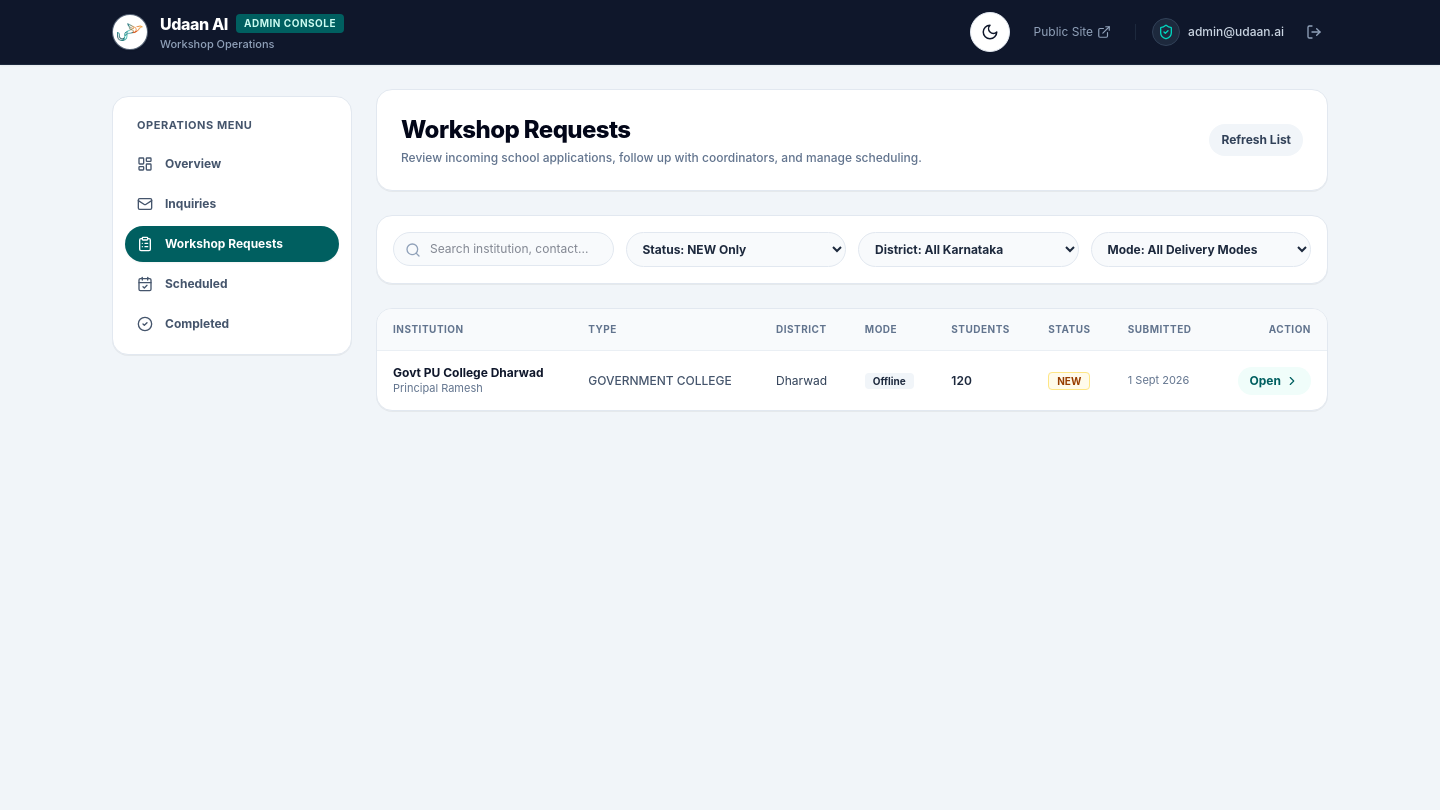
Test case: AdminRequestsPage › Scheduling failure → retry → success under a status filter › shows normalized error inside dialog, preserves inputs, and reconciles list upon success
This screenshot has width=1440, height=810.
Check: the text "Govt PU College Dharwad" is shown, box [393,365,556,381]
Click the button "Open". click: {"x": 1274, "y": 381}
box: [1238,367,1311,395]
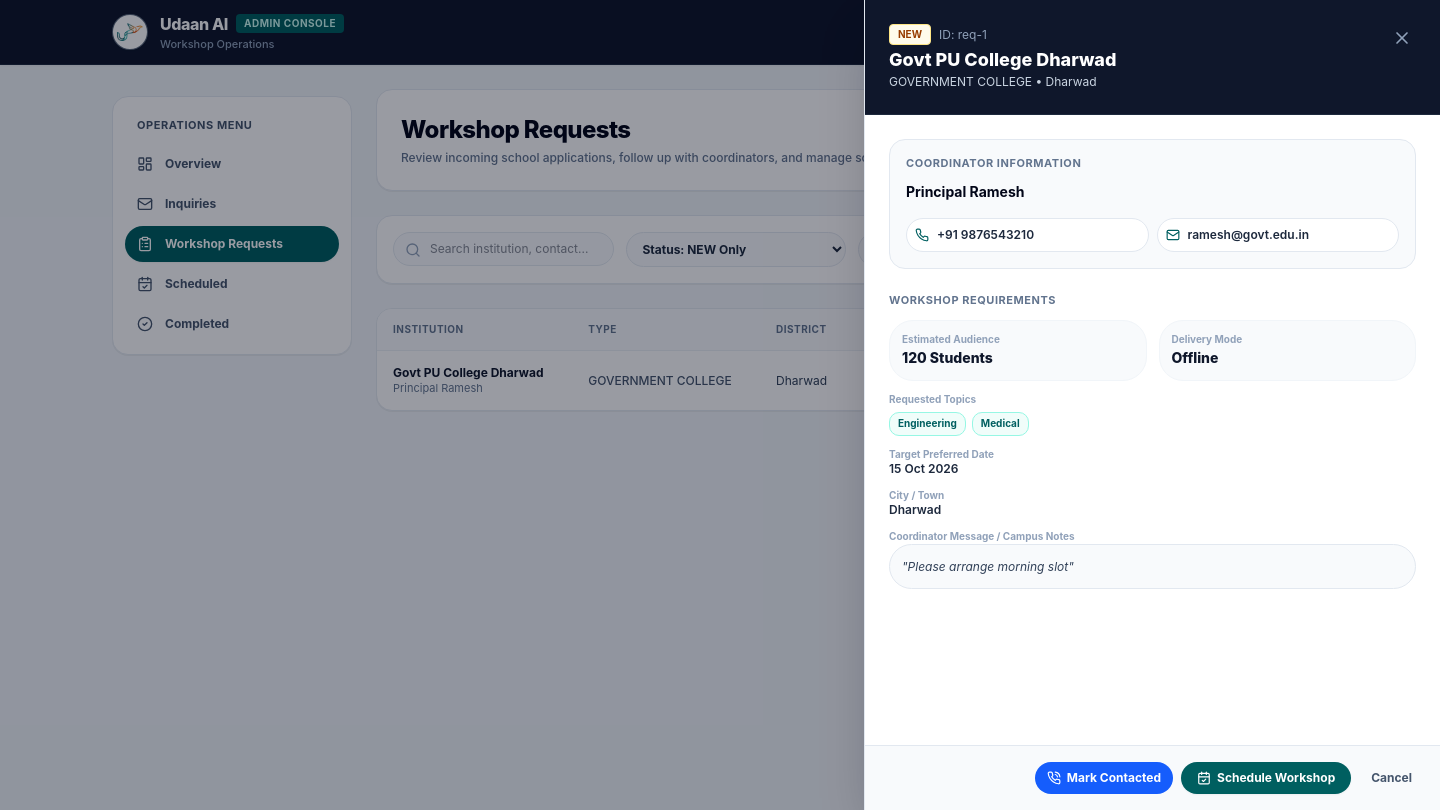
Check: the text "Coordinator Information" is shown, box [906,156,1081,170]
Note: Open Schedule Workshop dialog
Click the button "Schedule Workshop". click: {"x": 1266, "y": 778}
box: [1181,762,1351,794]
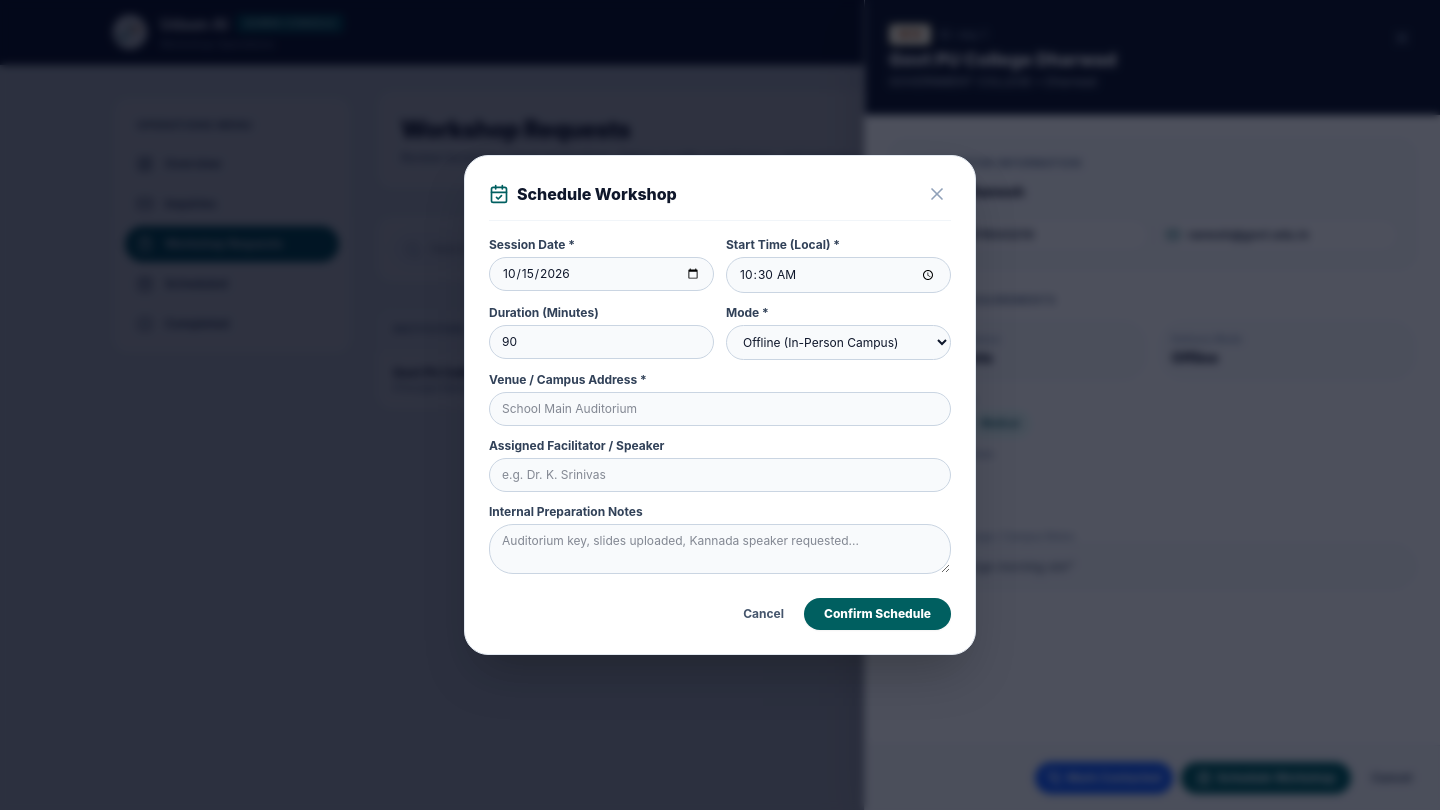
Check: the heading "Schedule Workshop" is shown, box [517,182,677,206]
Note: Fill in scheduling form details
Type "College Main Hall" into the field with placeholder "School Main Auditorium". click: {"x": 720, "y": 409}
box: [489,392,951,426]
Type "Dr. K. Srinivas" into the field with placeholder "e.g. Dr. K. Srinivas". click: {"x": 720, "y": 475}
box: [489,458,951,492]
Replace the text in the text box with placeholder "Auditorium key" with "Kannada speaker requested". click: {"x": 720, "y": 549}
box: [489,524,951,574]
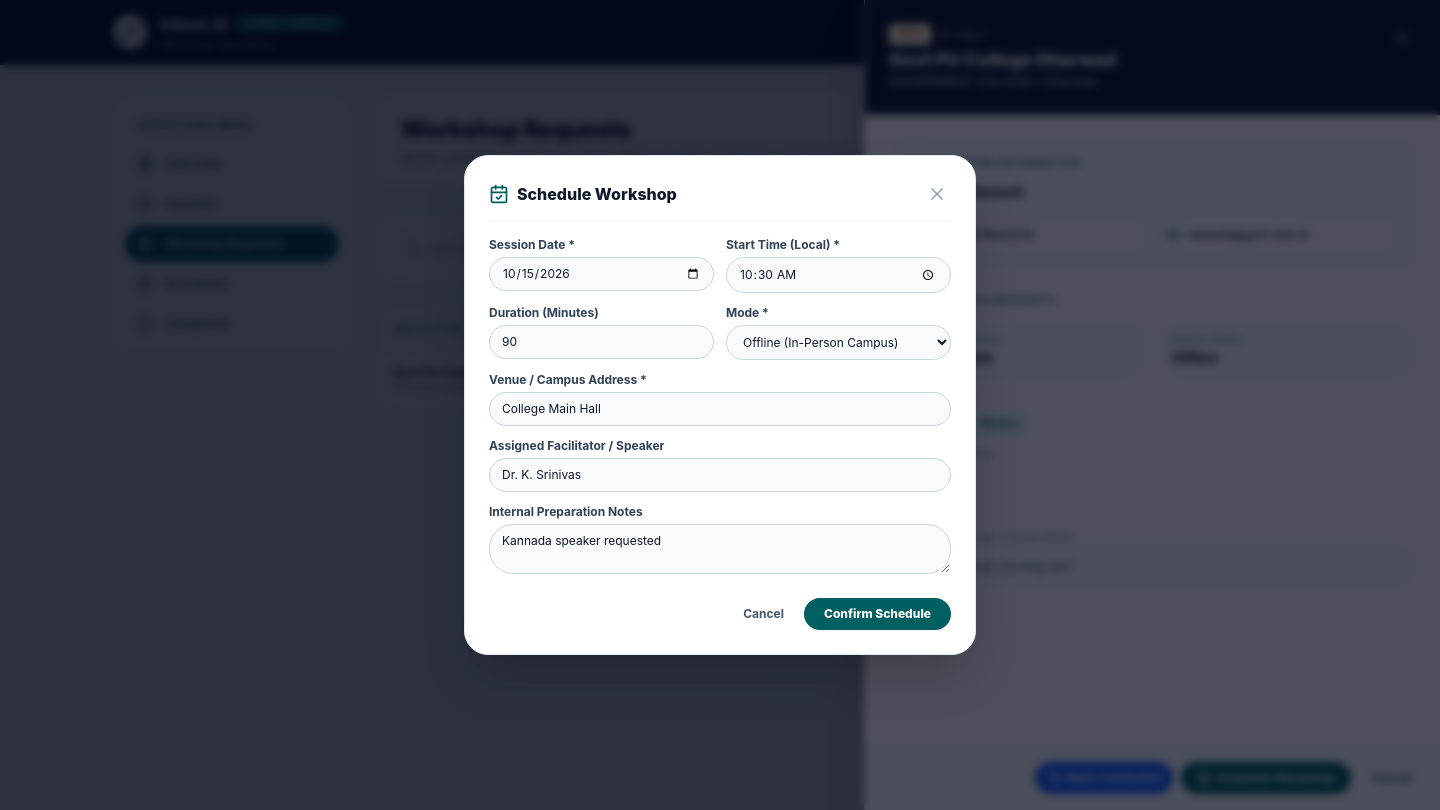
Click the button "Confirm Schedule". click: {"x": 878, "y": 614}
box: [804,598,951,630]
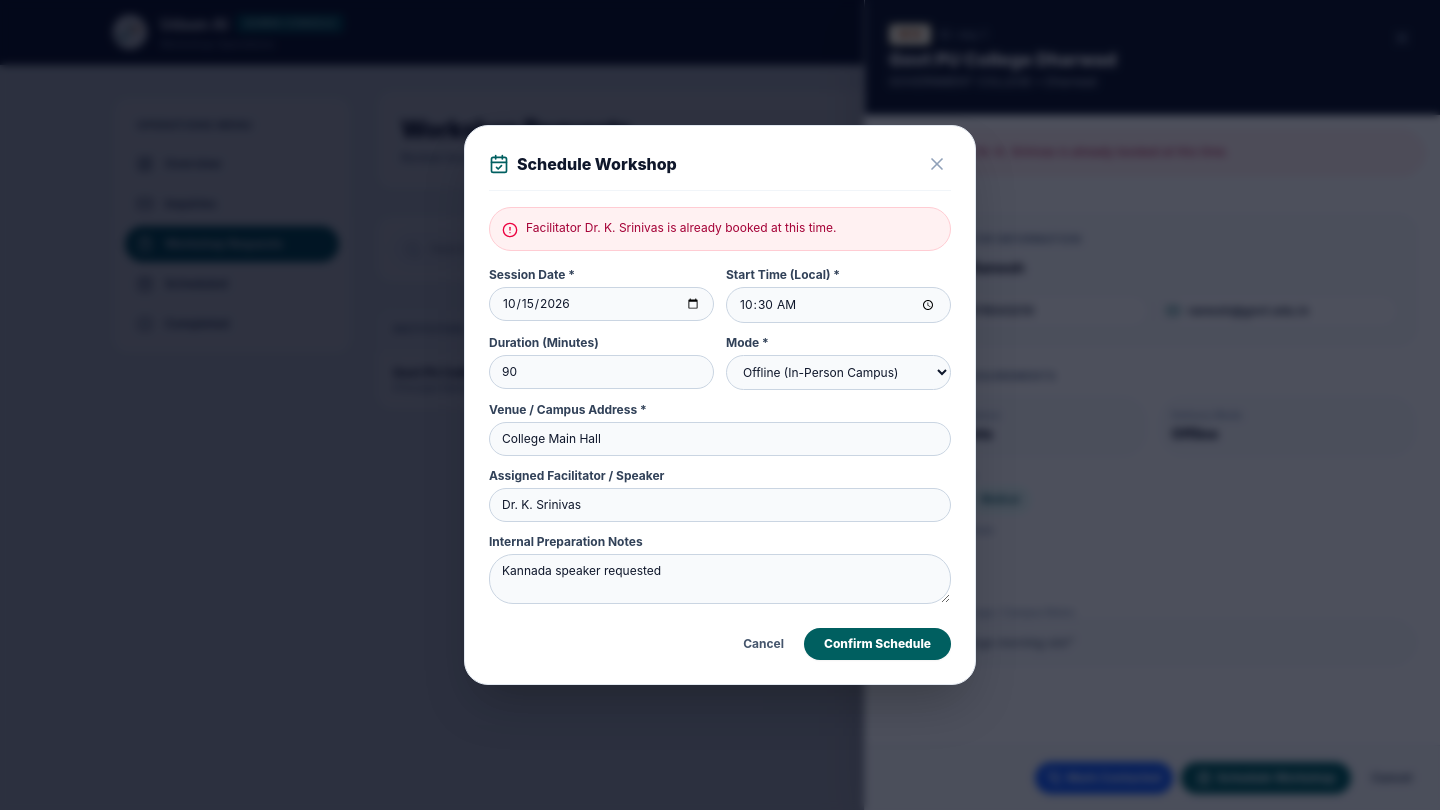
Check: the heading "Schedule Workshop" is shown, box [517,152,677,176]
Check: the message reads "Facilitator Dr. K. Srinivas is already booked at this time.", box [526,220,836,235]
Note: Retry: Correct facilitator and submit again with success
Replace the text in the field with placeholder "e.g. Dr. K. Srinivas" with "Prof. M. Patil". click: {"x": 720, "y": 505}
box: [489,488,951,522]
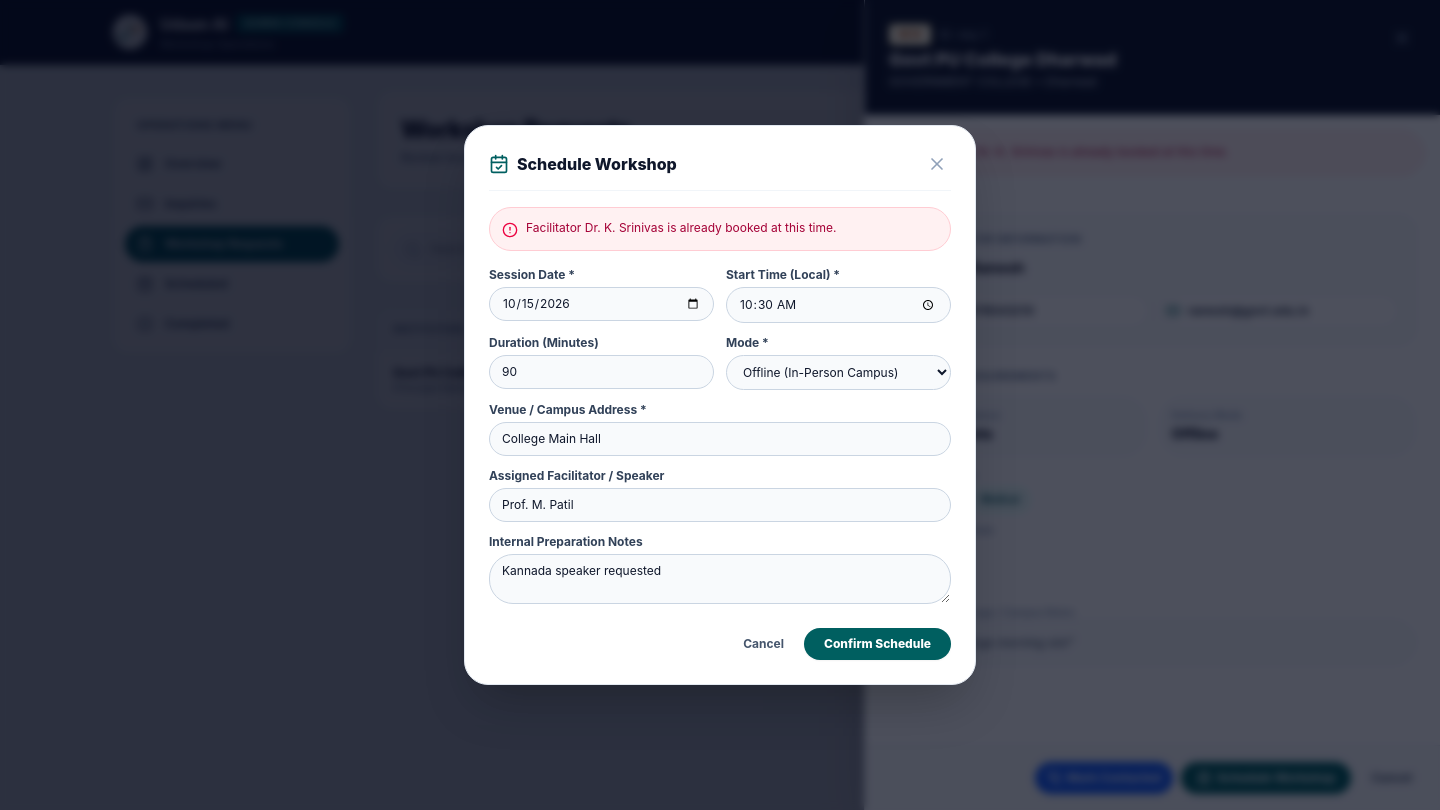
Click the button "Confirm Schedule". click: {"x": 878, "y": 644}
box: [804,628,951,660]
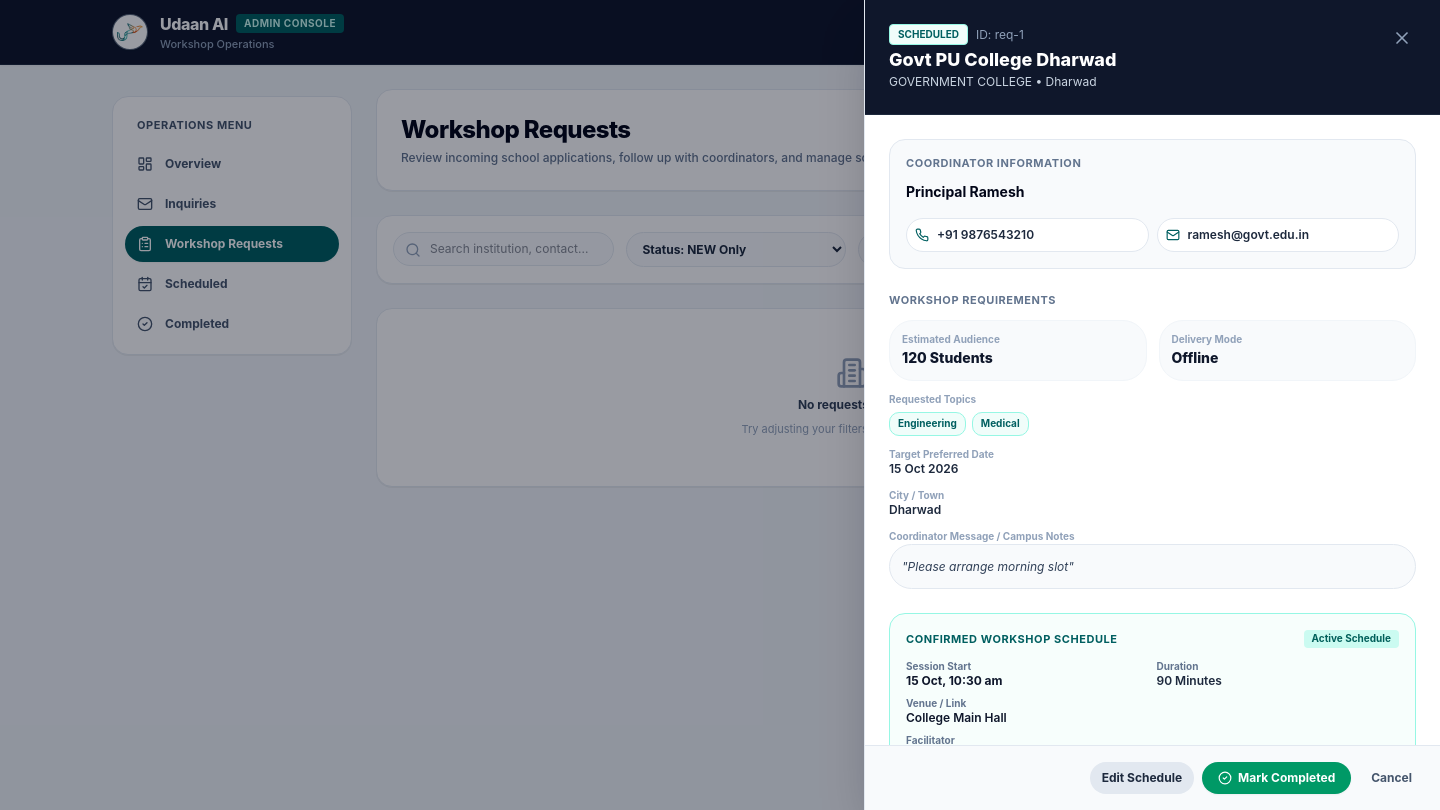
Check: the message "Facilitator Dr. K. Srinivas is already booked at this time." is gone
Check: the button "Schedule Workshop" is gone
Check: the text "No requests found" is shown, box [798,397,906,412]
